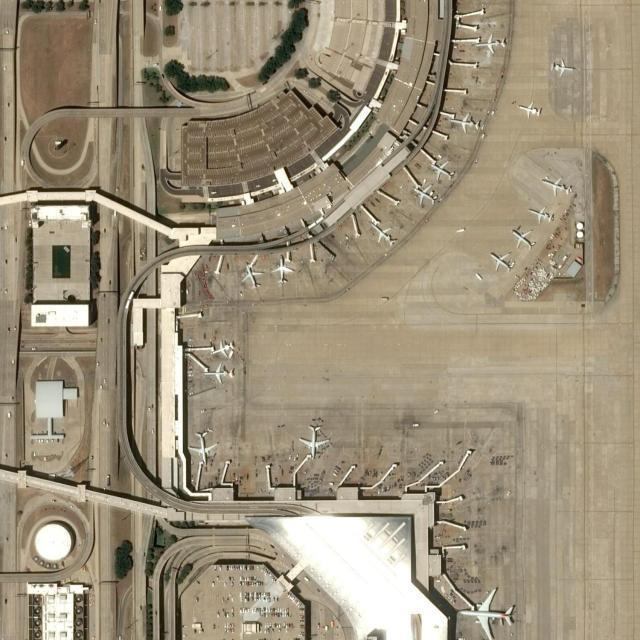Aircraft: (461, 585, 519, 639), (298, 424, 331, 458), (187, 431, 219, 465), (239, 261, 265, 291), (205, 361, 237, 385), (270, 255, 294, 285), (474, 34, 506, 55), (452, 112, 482, 134), (413, 183, 439, 208), (429, 158, 457, 181), (374, 222, 398, 248), (541, 176, 571, 195), (491, 251, 516, 273), (211, 338, 236, 360), (530, 204, 557, 223), (552, 59, 576, 78), (512, 229, 536, 248), (520, 99, 542, 118)
